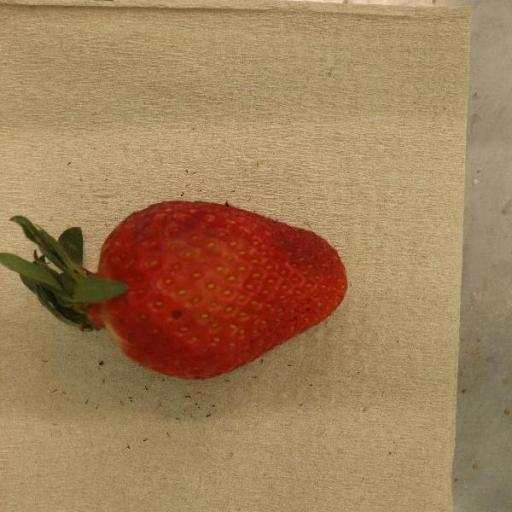Strawberry: (0, 201, 349, 381)
